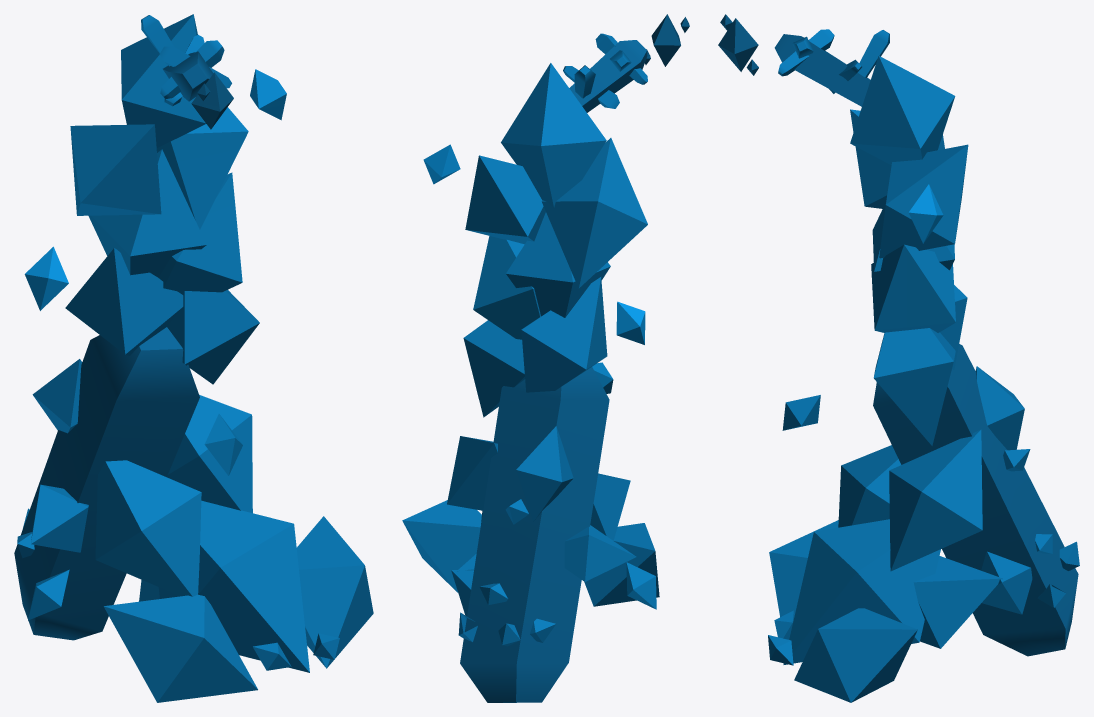
The model's file is environment_diamond_tree_blue_asset.fbx.
3 views of the same model, side by side, from view 1: azimuth 30°, elevation 25°; view 2: azimuth 150°, elevation 25°; view 3: azimuth 270°, elevation 25° (orthographic). The views are drawn at different scales.
Visible parts, largest first — view 1: polySurface20, polySurface21, flaoting_diamond1, floating_diamond3, floating_diamond2, flaoting_diamond4, orbited_diamond; view 2: polySurface20, polySurface21, flaoting_diamond4, flaoting_diamond1, orbited_diamond, floating_diamond2; view 3: polySurface20, polySurface21, orbited_diamond, floating_diamond2, floating_diamond3.
Boxes of the visible parts, box(x1,y1,x2,y2) form: polySurface20: box(17, 14, 373, 702); polySurface21: box(14, 51, 213, 640); flaoting_diamond1: box(24, 246, 68, 310); floating_diamond3: box(204, 414, 242, 475); floating_diamond2: box(250, 69, 286, 120); flaoting_diamond4: box(28, 569, 69, 620); orbited_diamond: box(191, 72, 233, 129); polySurface20: box(402, 33, 659, 646); polySurface21: box(460, 40, 647, 702); flaoting_diamond4: box(626, 562, 656, 609); flaoting_diamond1: box(616, 301, 645, 344); orbited_diamond: box(651, 14, 680, 66); floating_diamond2: box(423, 144, 460, 184); polySurface20: box(768, 29, 1079, 702); polySurface21: box(774, 34, 1078, 656); orbited_diamond: box(718, 18, 758, 71); floating_diamond2: box(908, 184, 943, 243); floating_diamond3: box(782, 395, 820, 430).
Bounding box in the file's own units: 9.89 × 21.06 × 10.96.
